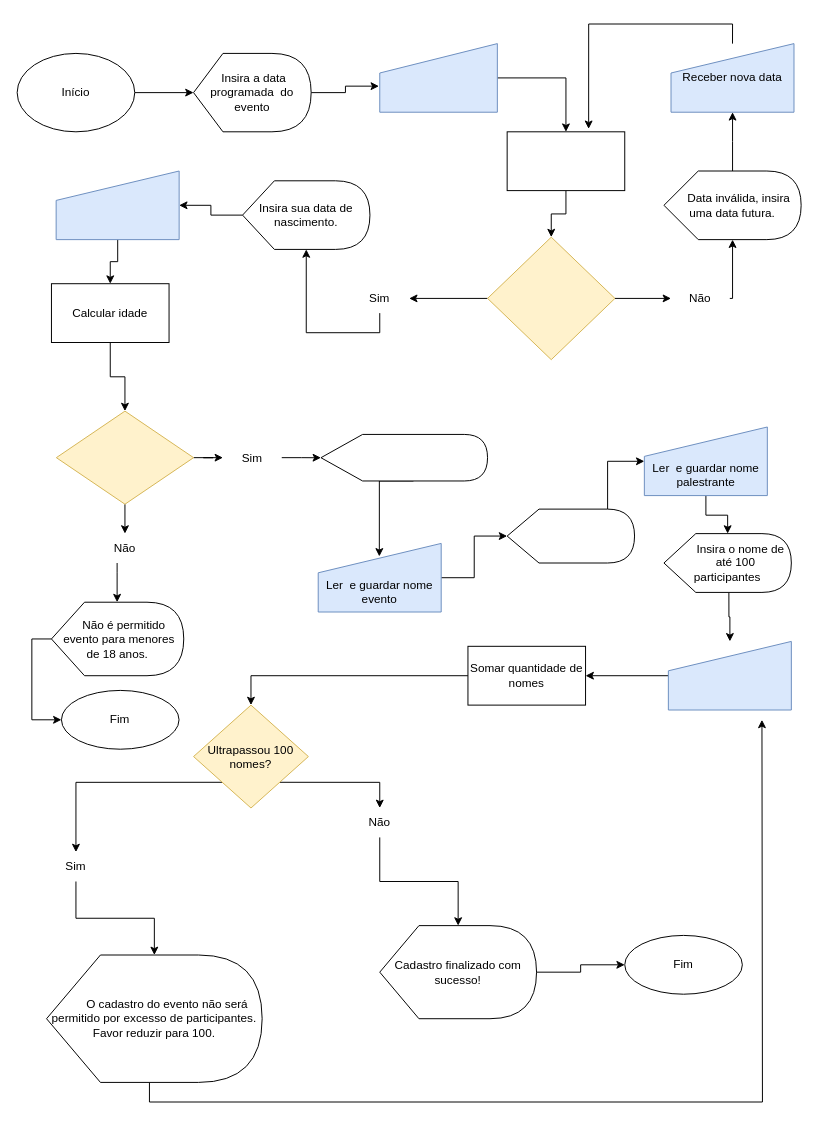
This 818x1127 diagram has some shape labels left out. Each missing label, with the box of its shape:
A data é posterior à atual?: (487, 236, 615, 360)
Comparar data inserida com a atual: (506, 131, 625, 191)
Insira o nome do evento: (320, 433, 488, 481)
Insira o nome do(s) palestrante (s): (506, 508, 635, 563)
Ler data do evento: (379, 43, 497, 112)
ler idade: (55, 170, 179, 240)
Receber os nomes: (667, 640, 791, 710)
É maior de 18 anos?: (55, 410, 194, 504)
